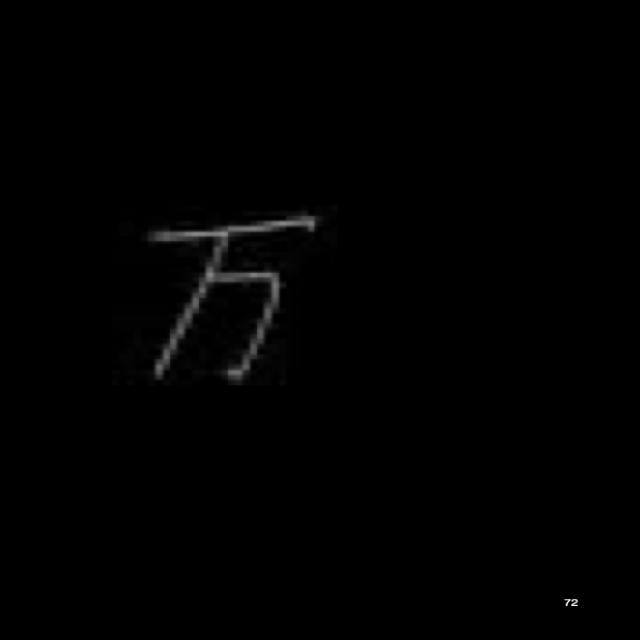10000 -a ten thousand-: (108, 202, 342, 405)
